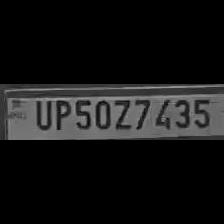0: (91, 97, 111, 130)
3: (170, 96, 190, 128)
4: (152, 96, 172, 130)
5: (190, 96, 212, 128), (71, 96, 91, 130)
7: (130, 96, 150, 130)
P: (51, 97, 70, 131)
U: (30, 97, 52, 131)
Z: (112, 96, 132, 132)
